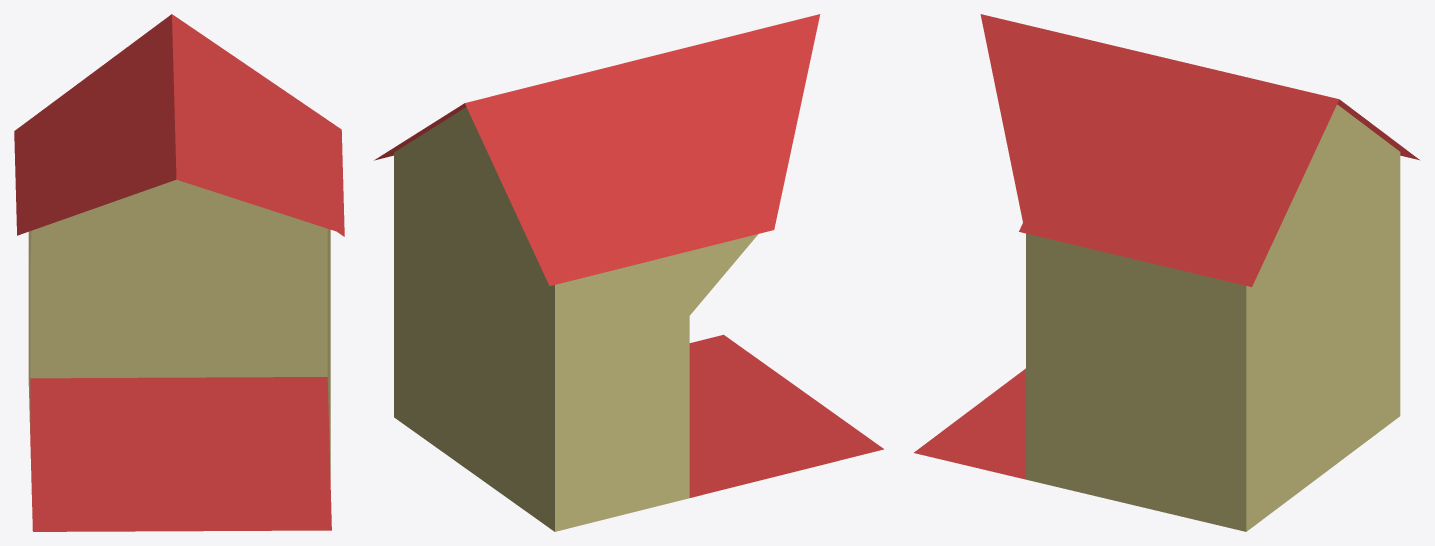
3 renders of one model, left to right at view 1: azimuth 30°, elevation 25°; view 2: azimuth 150°, elevation 25°; view 3: azimuth 270°, elevation 25°, orthographic. The views are drawn at different scales.
Size of the model in its own units: 16.07 by 16.94 by 13.84.
